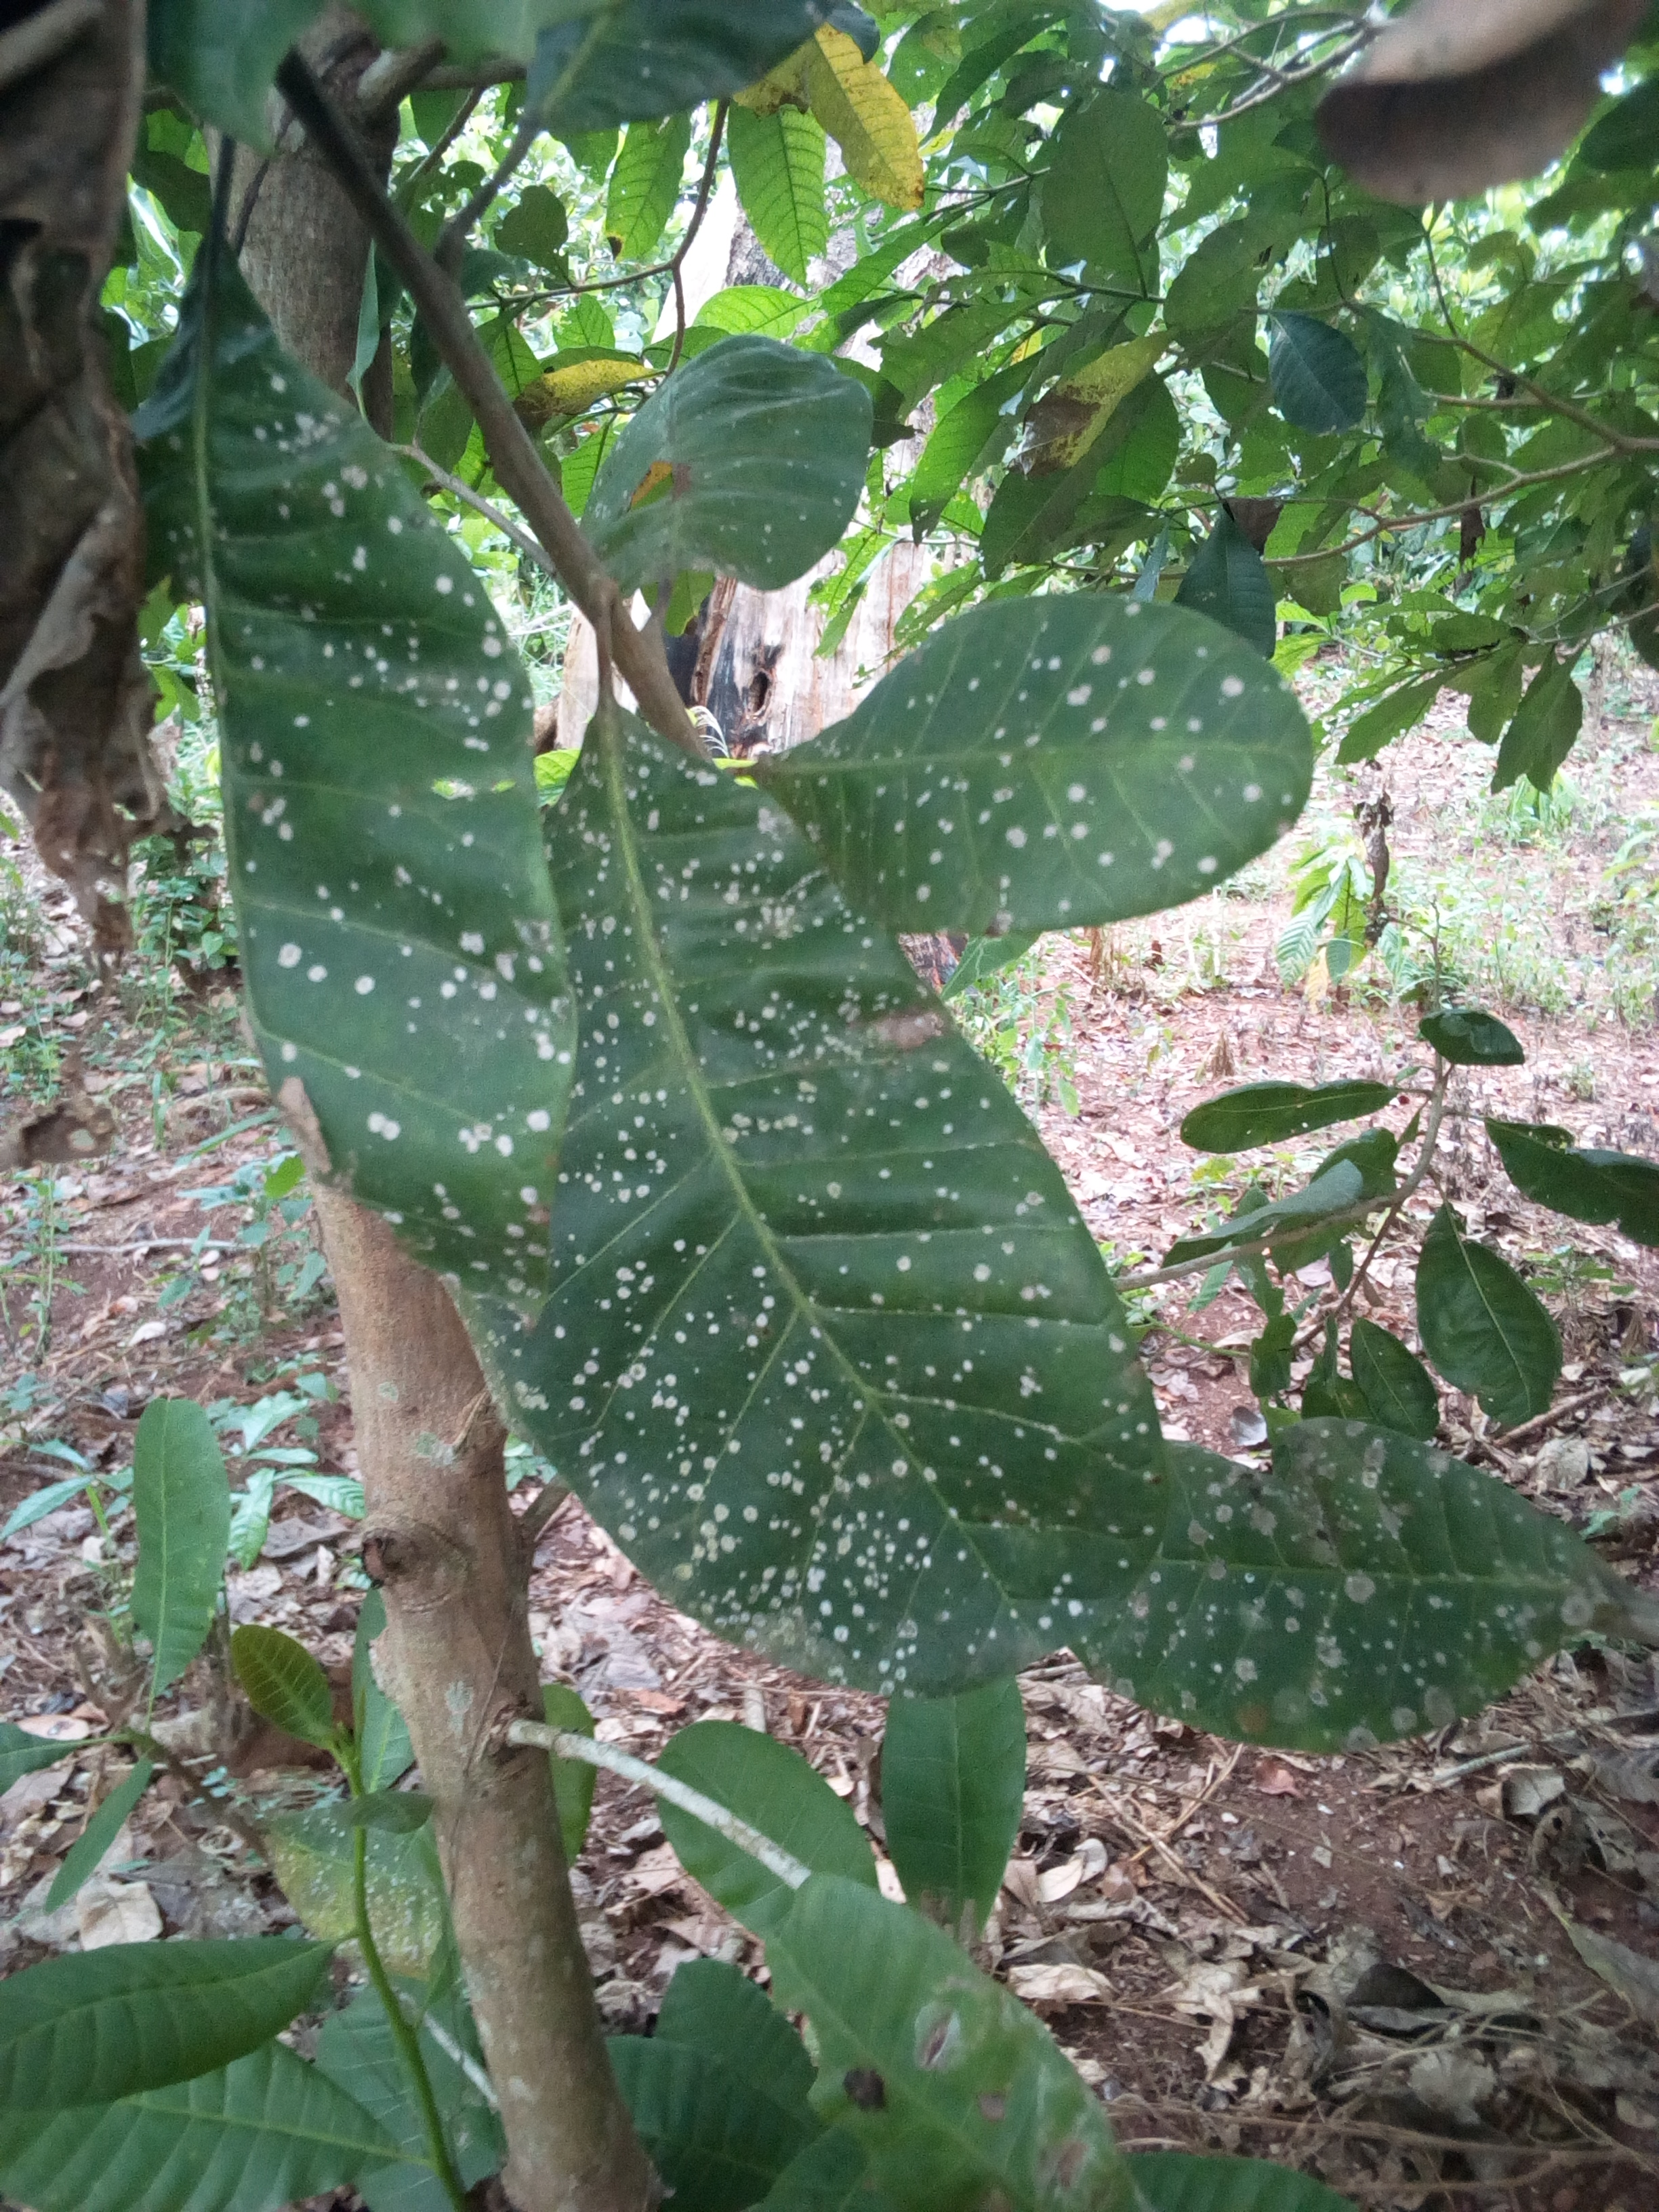Oidium: (416, 723, 1307, 1766), (183, 218, 610, 1299), (739, 575, 1371, 970)
